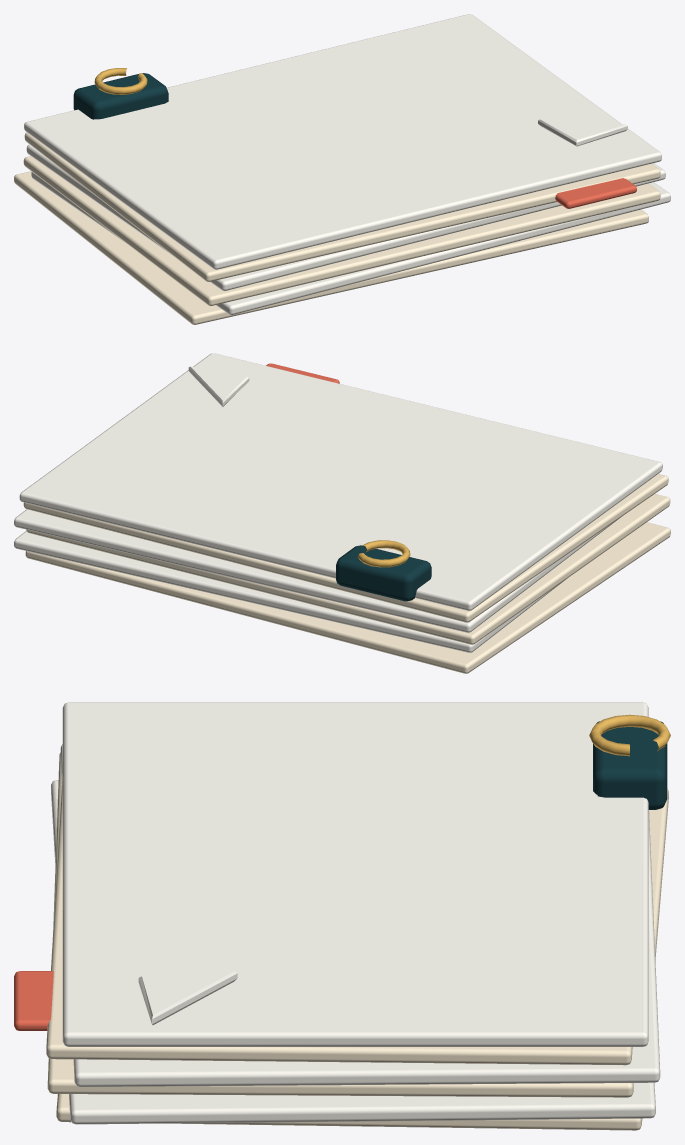
File: print-stack.glb
The picture shows the model from 3 angles, top to bottom: view 1: azimuth 30°, elevation 25°; view 2: azimuth 150°, elevation 25°; view 3: azimuth 270°, elevation 25°; orthographic projection. The views are drawn at different scales.
Visible parts, largest first — view 1: artwork-surface, paper-5, paper-2, paper-0, paper-4, paper-1, paper-3, binder-jaw, curled-paper-corner, coral-index-tab, binder-loop; view 2: artwork-surface, paper-5, paper-0, paper-3, paper-2, paper-1, paper-4, binder-jaw, curled-paper-corner, binder-loop; view 3: artwork-surface, paper-5, paper-1, paper-3, paper-4, paper-2, paper-0, binder-jaw, curled-paper-corner, coral-index-tab, binder-loop.
Part boxes in pixels (<box>): artwork-surface: <box>75,32,610,239</box>; paper-5: <box>24,14,661,269</box>; paper-2: <box>23,156,660,305</box>; paper-0: <box>14,171,648,324</box>; paper-4: <box>24,132,660,281</box>; paper-1: <box>31,172,670,314</box>; paper-3: <box>26,144,665,290</box>; binder-jaw: <box>73,73,168,119</box>; curled-paper-corner: <box>538,119,627,146</box>; coral-index-tab: <box>555,178,636,208</box>; binder-loop: <box>94,68,147,94</box>; artwork-surface: <box>71,371,611,580</box>; paper-5: <box>19,353,662,610</box>; paper-0: <box>25,522,670,673</box>; paper-3: <box>14,509,620,632</box>; paper-2: <box>26,494,670,644</box>; paper-1: <box>14,531,565,652</box>; paper-4: <box>23,474,668,622</box>; binder-jaw: <box>336,545,431,601</box>; curled-paper-corner: <box>188,366,249,406</box>; binder-loop: <box>357,540,410,567</box>; artwork-surface: <box>114,725,597,1006</box>; paper-5: <box>62,702,648,1046</box>; paper-1: <box>51,780,655,1124</box>; paper-3: <box>60,744,660,1086</box>; paper-4: <box>46,774,632,1065</box>; paper-2: <box>47,752,633,1097</box>; paper-0: <box>56,788,668,1130</box>; binder-jaw: <box>593,721,667,809</box>; curled-paper-corner: <box>138,971,237,1024</box>; coral-index-tab: <box>14,971,53,1030</box>; binder-loop: <box>589,714,670,756</box>.
Size of the model in its own units: 1.8 by 0.3308 by 1.41.
